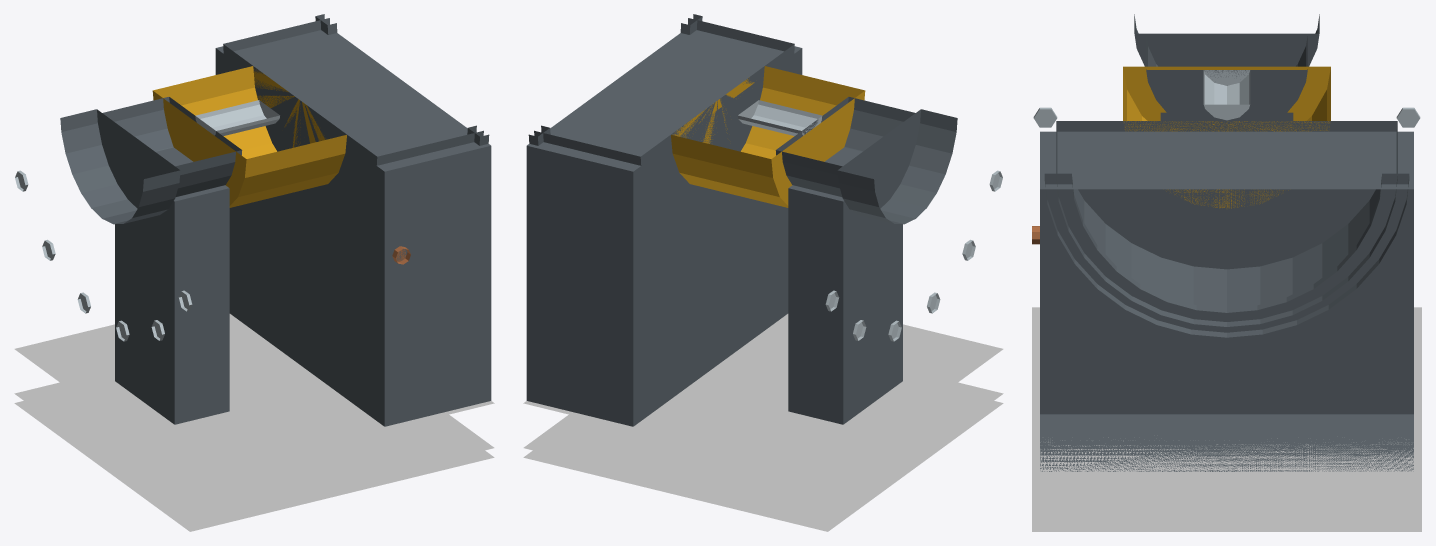
File: cell_11.obj
The picture shows the model from 3 angles, left to right: view 1: azimuth 30°, elevation 25°; view 2: azimuth 150°, elevation 25°; view 3: azimuth 270°, elevation 25°; orthographic projection. The views are drawn at different scales.
Size of the model in its own units: 1 by 1 by 1.
